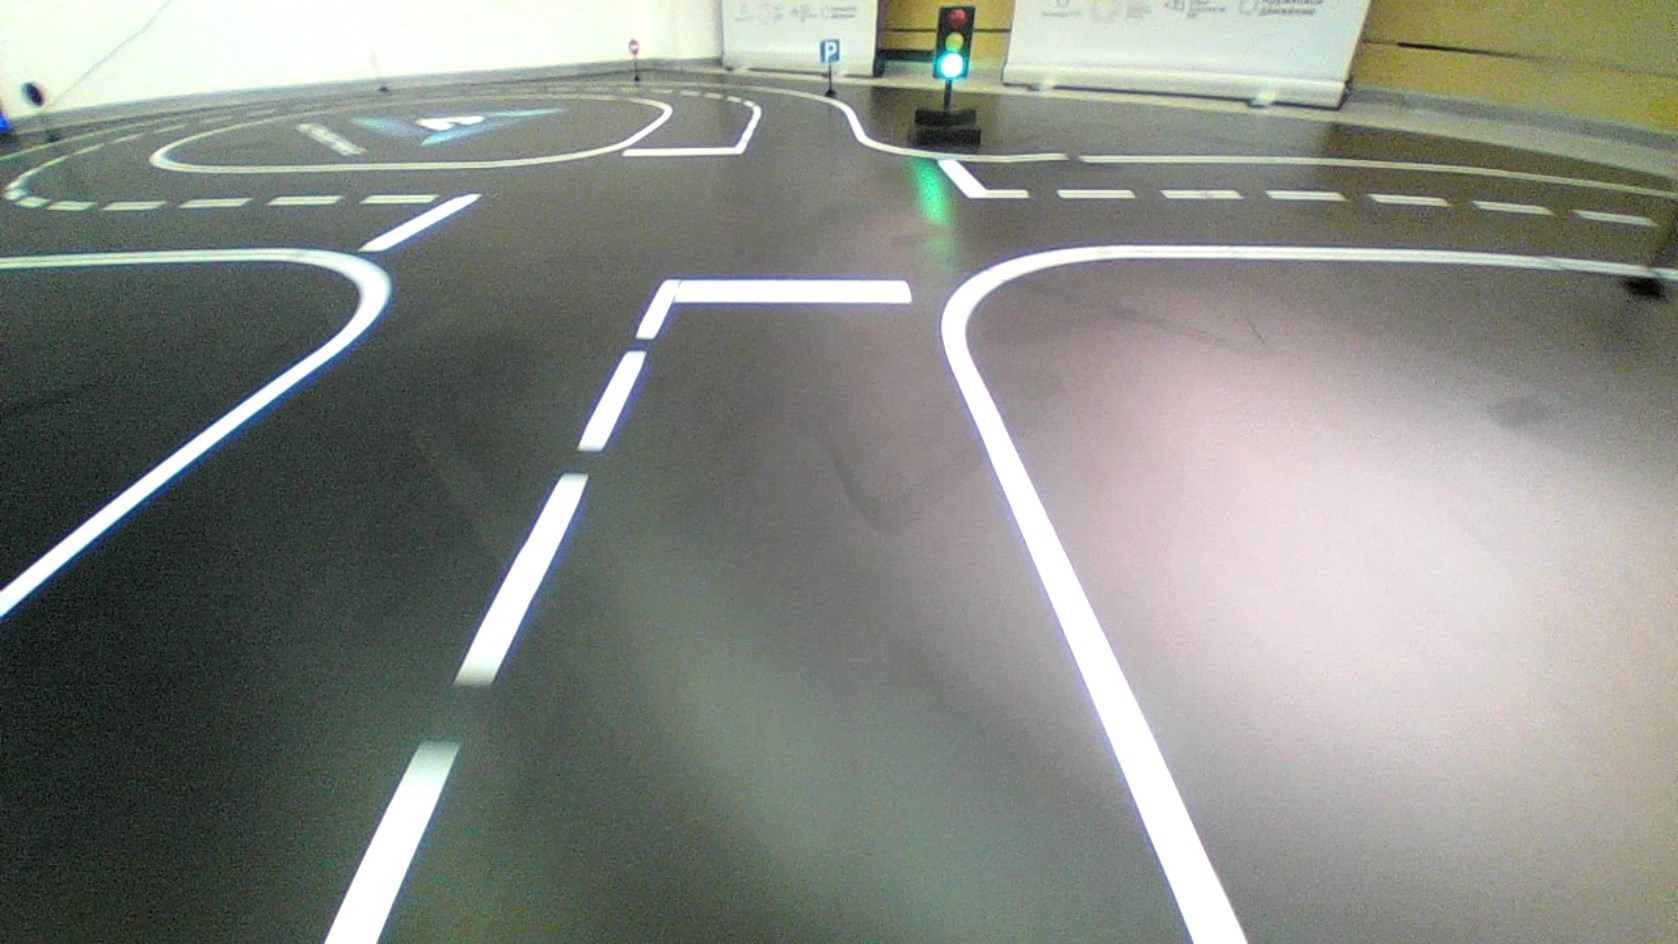trafficlight: (931, 3, 977, 80)
